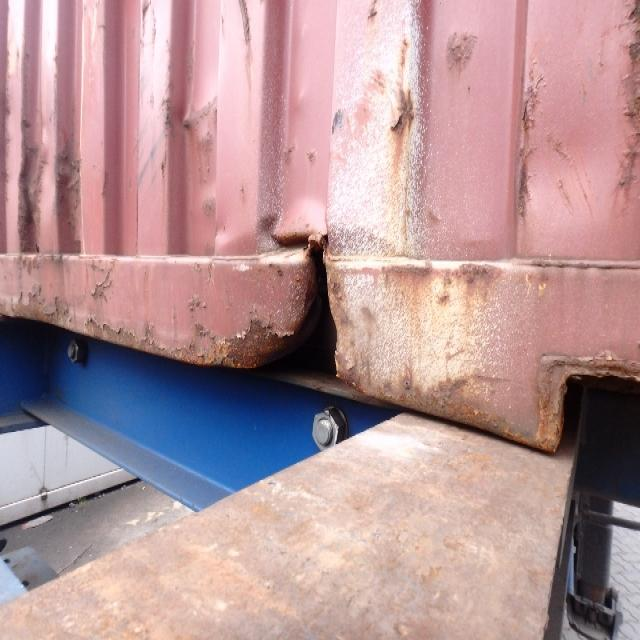dent: (230, 258, 371, 389), (184, 79, 230, 242), (249, 191, 345, 238)
